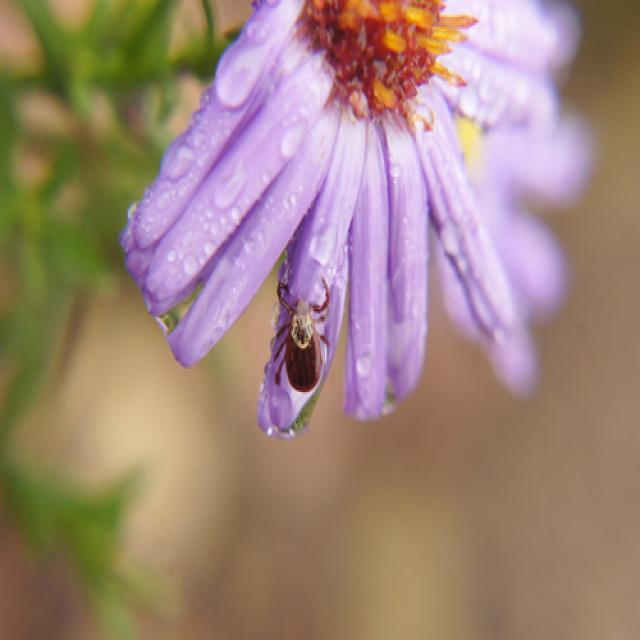Dermacentor Reticulatus-F: (271, 281, 333, 394)
